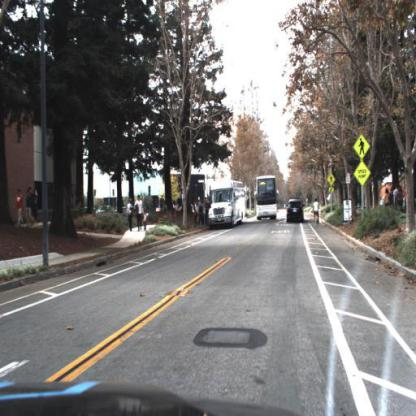biker: (313, 195, 325, 231)
car: (284, 195, 308, 225)
pedestrian: (25, 187, 39, 227), (14, 190, 26, 226), (134, 194, 144, 230), (127, 198, 137, 232), (392, 186, 401, 212), (383, 187, 393, 210), (143, 210, 151, 233), (199, 199, 205, 225), (193, 201, 198, 222)
truck: (207, 180, 249, 231), (253, 173, 282, 222)
